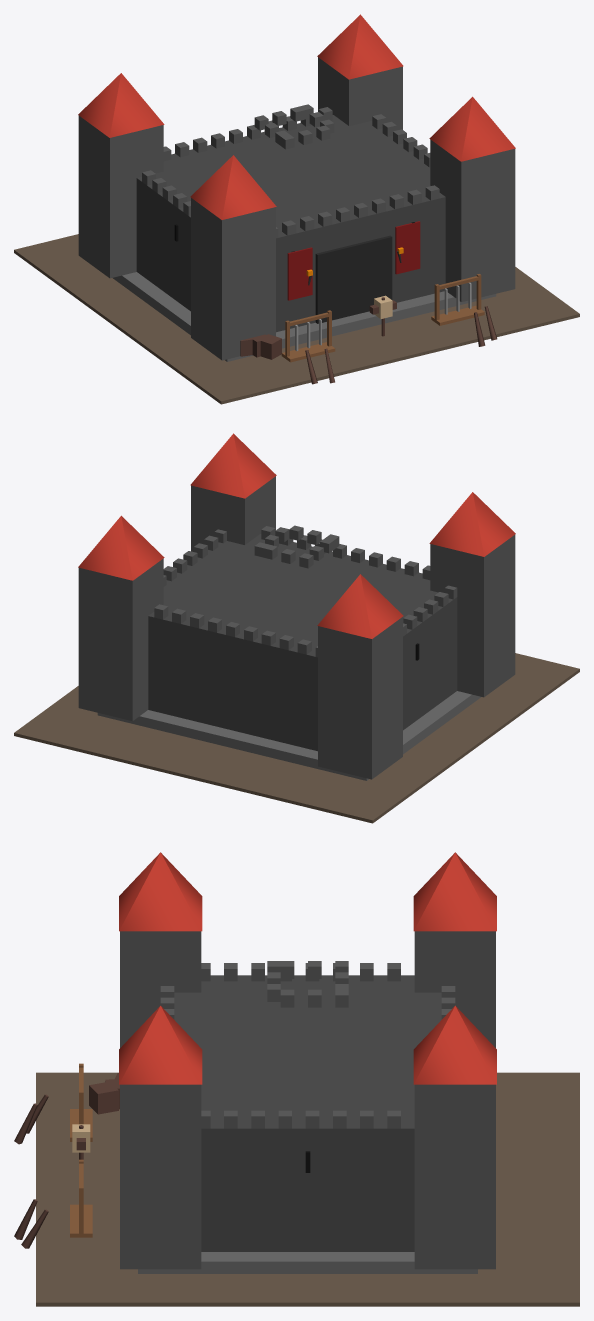
The model's file is barracks.glb.
3 renders of one model, top to bottom at view 1: azimuth 30°, elevation 25°; view 2: azimuth 150°, elevation 25°; view 3: azimuth 270°, elevation 25°, orthographic. The views are drawn at different scales.
Visible parts, largest first — view 1: MainBarracks, TrampledGround, TowerNW, TowerNE, TowerSW, MainGate, Foundation, TowerSE, TowerNERoof, TowerSERoof, TowerSWRoof, TowerNWRoof (+2 smaller); view 2: MainBarracks, TrampledGround, TowerSW, TowerSE, TowerNW, Foundation, TowerNE, TowerSERoof, TowerNERoof, TowerNWRoof, TowerSWRoof; view 3: MainBarracks, TrampledGround, TowerNE, TowerSE, TowerSW, TowerNW, Foundation, TowerNWRoof, TowerSWRoof, TowerNERoof, TowerSERoof, Crate (+1 smaller).
Part boxes in pixels (<box>): MainBarracks: <box>136,115,445,332</box>; TrampledGround: <box>14,234,579,404</box>; TowerNW: <box>191,198,275,360</box>; TowerNE: <box>430,139,515,301</box>; TowerSW: <box>78,115,163,278</box>; MainGate: <box>315,235,392,323</box>; Foundation: <box>113,272,496,361</box>; TowerSE: <box>318,57,402,130</box>; TowerNERoof: <box>429,96,515,161</box>; TowerSERoof: <box>317,14,403,79</box>; TowerSWRoof: <box>78,73,164,137</box>; TowerNWRoof: <box>190,155,276,219</box>; MainBarracks: <box>148,534,457,751</box>; TrampledGround: <box>14,653,579,823</box>; TowerSW: <box>318,617,402,779</box>; TowerSE: <box>78,558,163,720</box>; TowerNW: <box>430,534,515,697</box>; Foundation: <box>97,691,480,780</box>; TowerNE: <box>191,476,275,551</box>; TowerSERoof: <box>78,515,164,580</box>; TowerNERoof: <box>190,433,276,498</box>; TowerNWRoof: <box>429,492,515,556</box>; TowerSWRoof: <box>317,574,403,638</box>; MainBarracks: <box>174,975,441,1251</box>; TrampledGround: <box>36,1072,579,1306</box>; TowerNE: <box>120,1084,201,1269</box>; TowerSE: <box>414,1084,495,1269</box>; TowerSW: <box>414,931,495,1047</box>; TowerNW: <box>120,931,201,1047</box>; Foundation: <box>138,1252,477,1273</box>; TowerNWRoof: <box>119,852,202,931</box>; TowerSWRoof: <box>413,852,496,931</box>; TowerNERoof: <box>119,1005,202,1084</box>; TowerSERoof: <box>413,1005,496,1084</box>; Crate: <box>89,1081,118,1114</box>.
Size of the model in its own units: 12 by 6.4 by 12.48.
